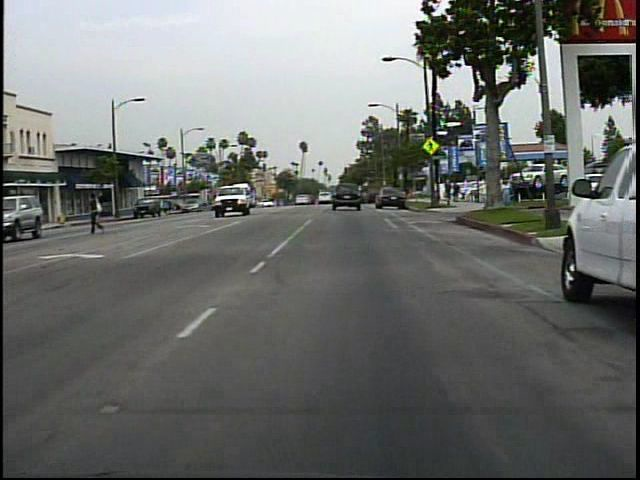person: (84, 188, 111, 238), (499, 177, 513, 211)
